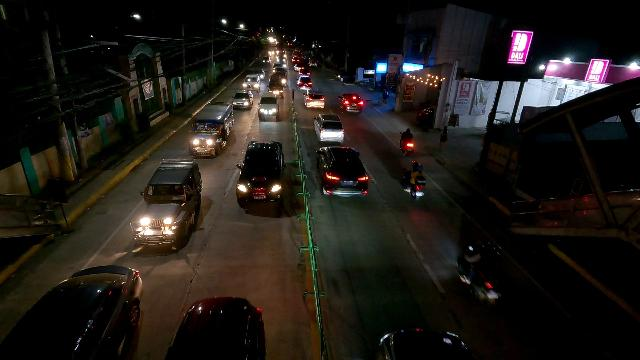car: (313, 145, 370, 197), (313, 112, 345, 144), (257, 92, 280, 122), (337, 93, 364, 115), (303, 89, 326, 110), (232, 90, 254, 110), (267, 75, 285, 97), (242, 74, 263, 92), (272, 68, 287, 85), (297, 74, 313, 89), (251, 68, 267, 80), (297, 68, 311, 79), (272, 63, 283, 74), (293, 63, 305, 71), (261, 56, 271, 65)
jeepney: (131, 158, 201, 249), (187, 102, 234, 158)
motorcycle: (402, 162, 428, 202), (399, 128, 414, 158)
truck: (236, 139, 285, 208)
